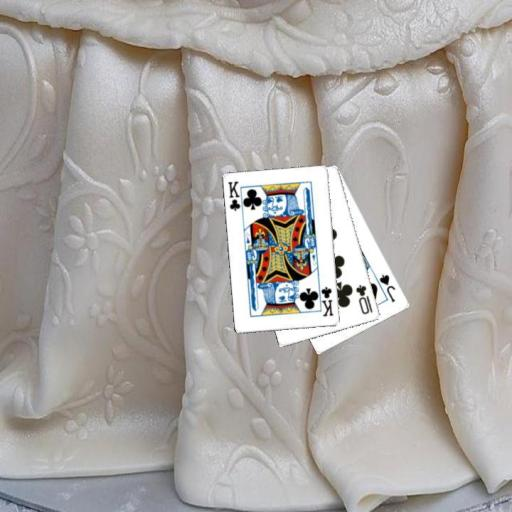10C: (353, 282, 374, 316)
JS: (376, 272, 397, 304)
KC: (315, 281, 335, 318), (226, 179, 246, 216)
